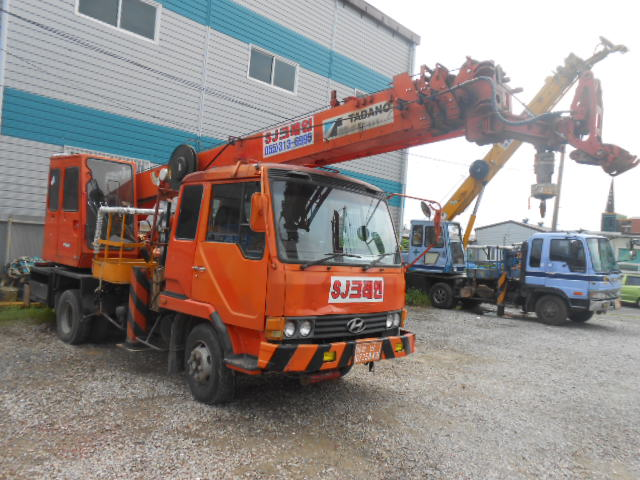crane: (22, 29, 629, 415)
